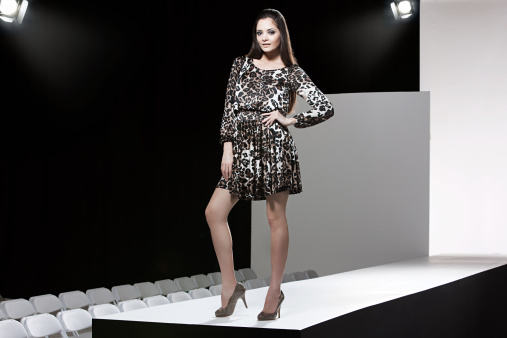em pe: (193, 4, 325, 307)
